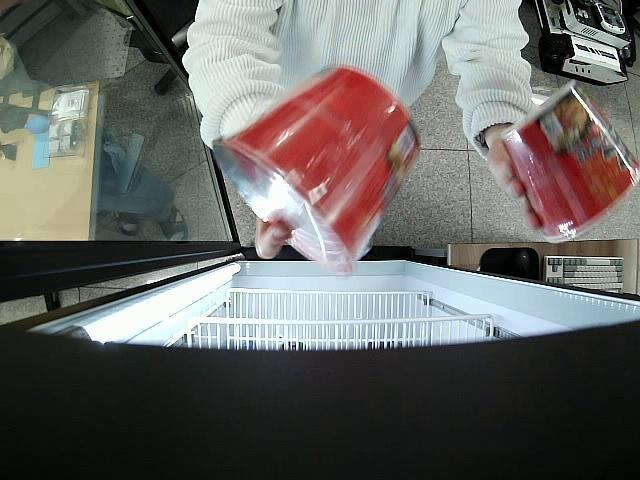01_ShinRamen_L: (211, 66, 420, 276), (507, 80, 640, 244)
